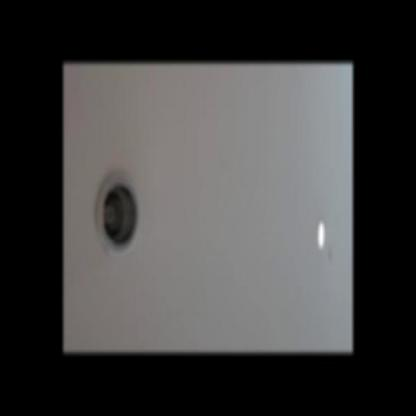light_off: (88, 157, 146, 267)
